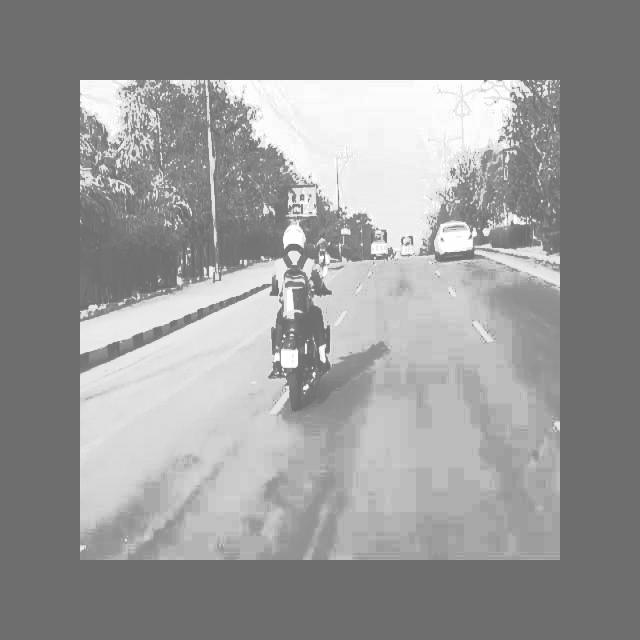Auto-Rickshaw: (368, 225, 393, 263), (398, 235, 419, 257)
Bike: (262, 230, 345, 422), (313, 232, 330, 272)
Car: (432, 224, 484, 262)
